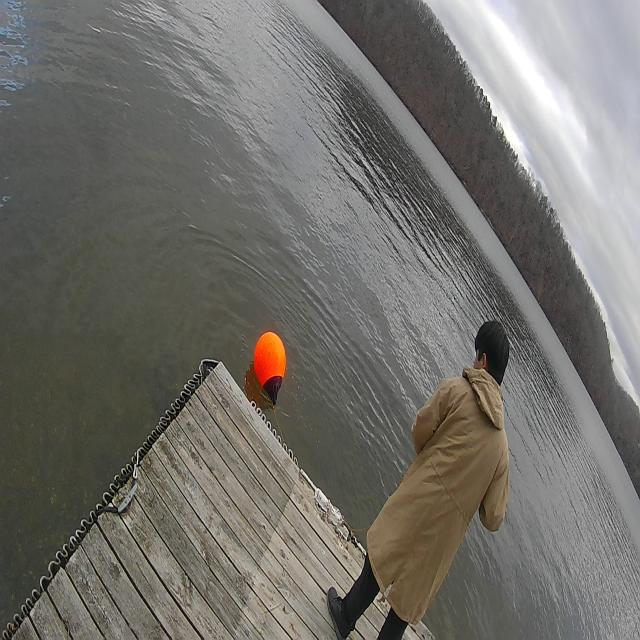Buoy: (249, 324, 292, 415)
